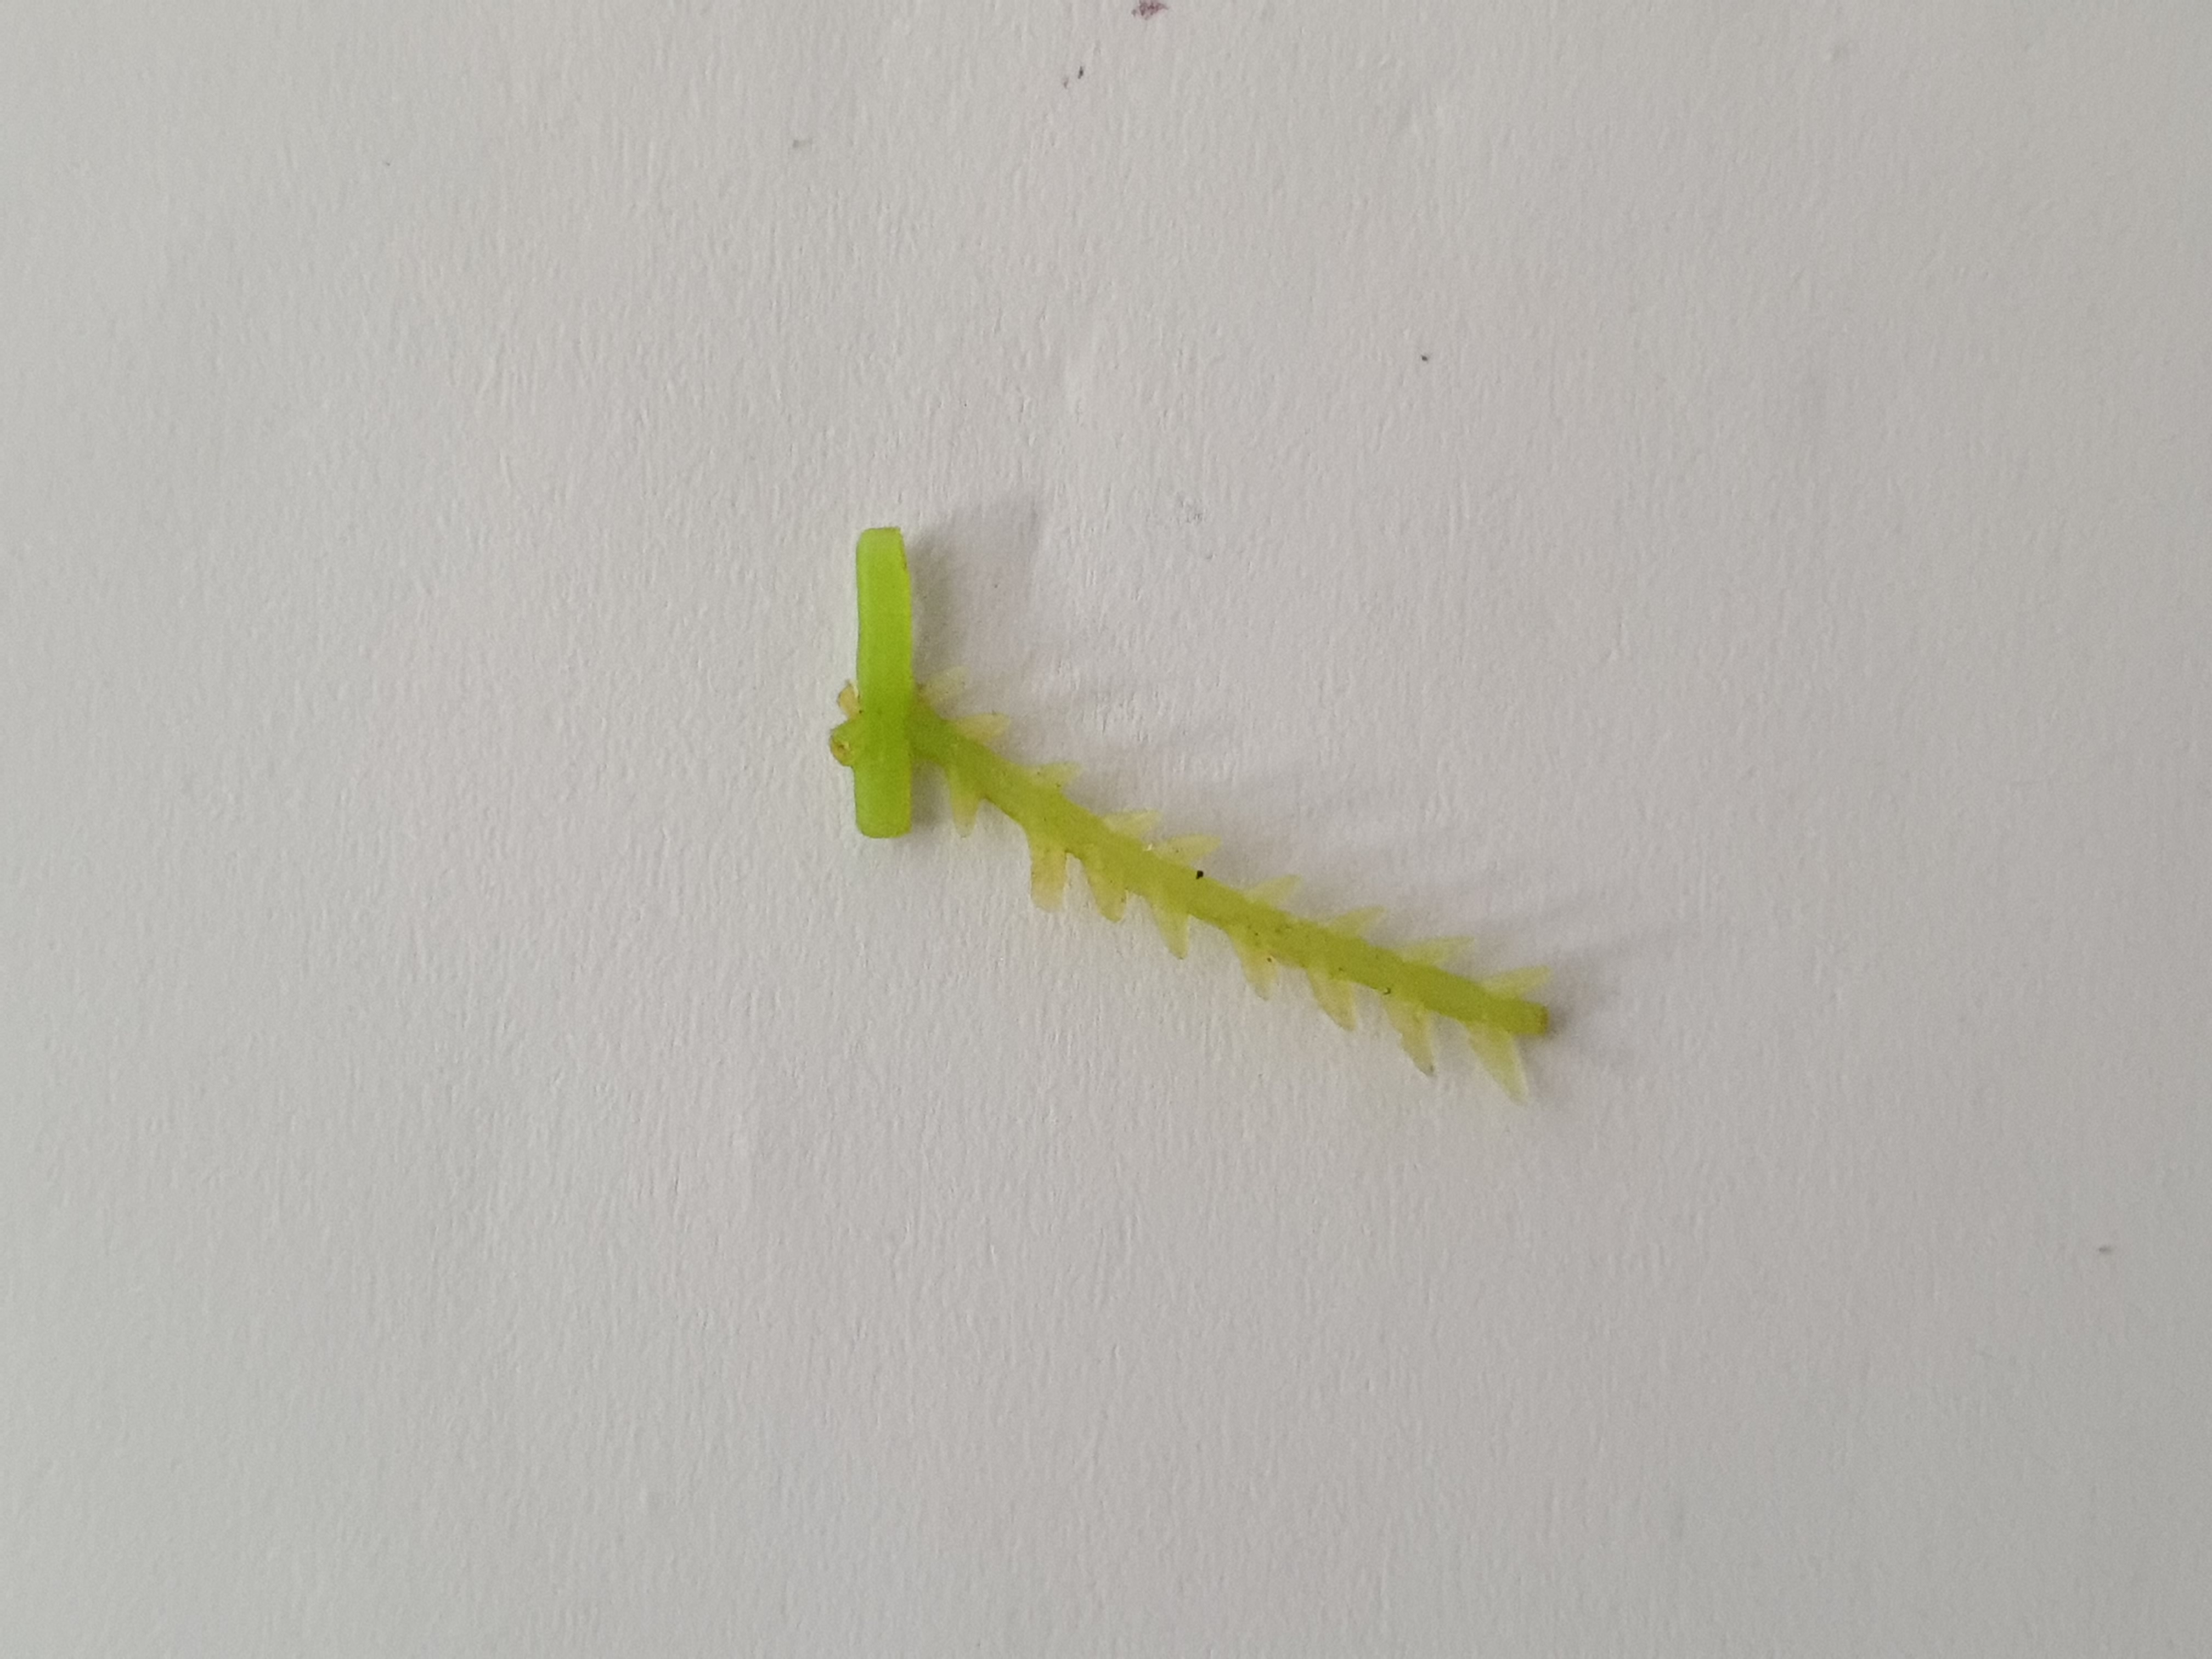plastic: (761, 500, 1602, 1100)
